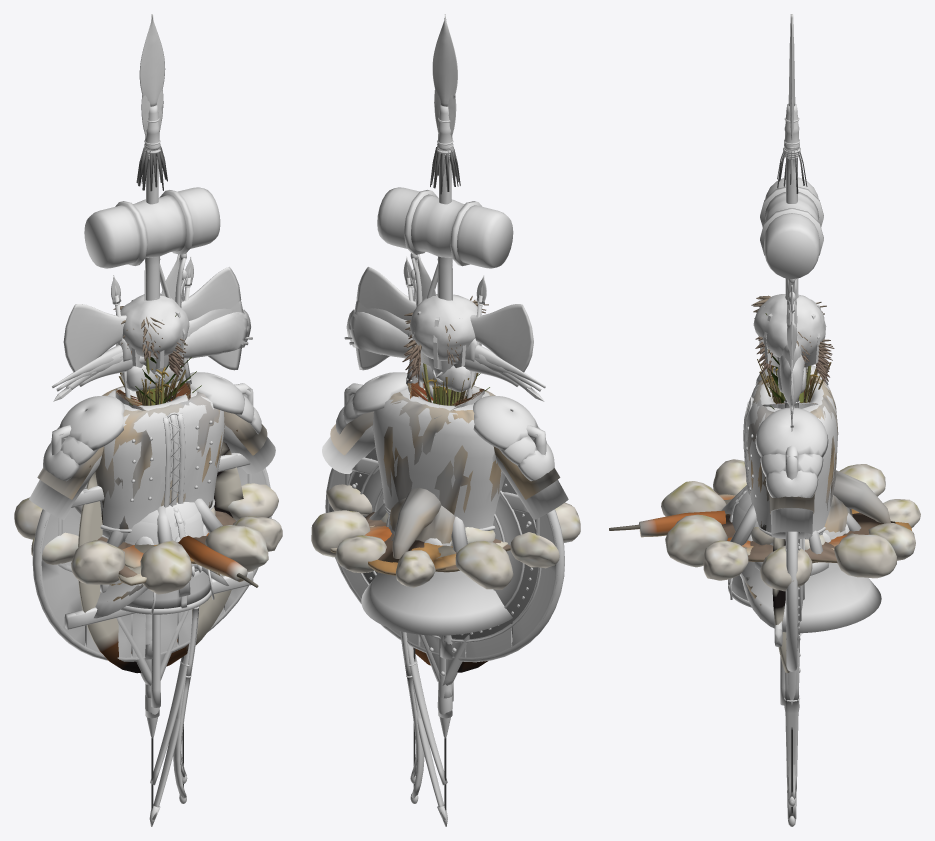
Rendered from items.glb.
3 renders of one model, left to right at view 1: azimuth 30°, elevation 25°; view 2: azimuth 150°, elevation 25°; view 3: azimuth 270°, elevation 25°, orthographic.
Visible parts, largest first — view 1: campfire, shield, copper_sledge, chainmail, iron_plate, hide_shield, rag_tunic, leather_vest, ruby_axe, iron_spear, stone_mace, iron_helm (+17 smaller); view 2: campfire, copper_sledge, chainmail, chain_coif, rag_tunic, iron_plate, shield, copper_shield, ruby_axe, iron_spear, stone_mace, rag_hood (+16 smaller); view 3: campfire, chain_coif, iron_plate, copper_sledge, chainmail, stone_mace, rag_hood, rag_tunic, iron_spear, heartwood_bow, shield, leather_vest (+8 smaller).
Boxes of the visible parts, x1,y1,x2,y2 form: campfire: [14, 483, 282, 594]; shield: [32, 453, 271, 661]; copper_sledge: [84, 187, 220, 659]; chainmail: [29, 387, 275, 538]; iron_plate: [43, 372, 261, 505]; hide_shield: [78, 396, 243, 707]; rag_tunic: [37, 386, 267, 532]; leather_vest: [102, 390, 224, 542]; ruby_axe: [63, 267, 241, 372]; iron_spear: [136, 14, 167, 738]; stone_mace: [120, 294, 189, 357]; iron_helm: [121, 510, 212, 614]; campfire: [311, 484, 580, 589]; copper_sledge: [377, 187, 513, 659]; chainmail: [322, 386, 568, 528]; chain_coif: [361, 524, 512, 635]; rag_tunic: [330, 386, 560, 530]; iron_plate: [336, 372, 554, 481]; shield: [325, 468, 564, 662]; copper_shield: [348, 446, 541, 642]; ruby_axe: [356, 267, 533, 372]; iron_spear: [430, 14, 460, 738]; stone_mace: [410, 294, 477, 360]; rag_hood: [390, 487, 465, 558]; campfire: [661, 459, 920, 591]; chain_coif: [732, 487, 881, 633]; iron_plate: [744, 365, 838, 575]; copper_sledge: [760, 177, 823, 652]; chainmail: [746, 382, 837, 539]; stone_mace: [753, 294, 825, 357]; rag_hood: [729, 470, 890, 605]; rag_tunic: [747, 376, 838, 538]; iron_spear: [777, 14, 807, 711]; heartwood_bow: [784, 278, 801, 826]; shield: [774, 531, 797, 671]; leather_vest: [743, 379, 835, 545].
Bounding box in the file's own units: 0.6245 × 2.02 × 0.7014.
